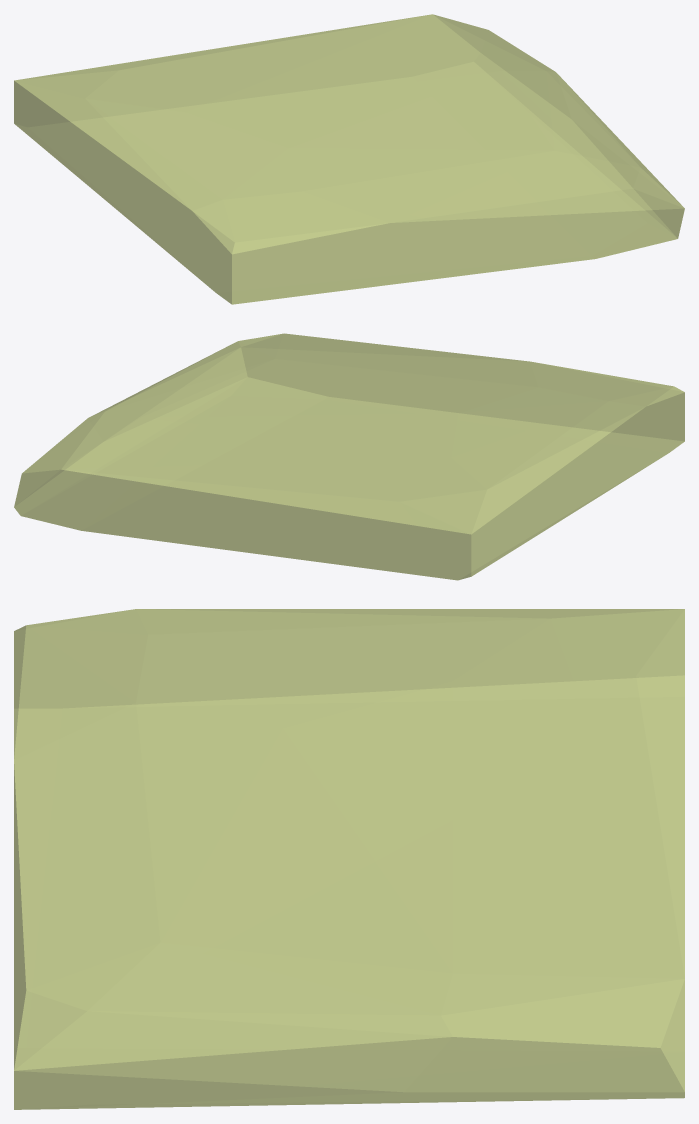
3 renders of one model, top to bottom at view 1: azimuth 30°, elevation 25°; view 2: azimuth 150°, elevation 25°; view 3: azimuth 270°, elevation 25°, orthographic. The views are drawn at different scales.
Visible parts, largest first — view 1: Shape_IndexedFaceSet.002_Shape_IndexedFaceSet.9005; view 2: Shape_IndexedFaceSet.002_Shape_IndexedFaceSet.9005; view 3: Shape_IndexedFaceSet.002_Shape_IndexedFaceSet.9005.
Part boxes in pixels (x1,y1,x2,y2): Shape_IndexedFaceSet.002_Shape_IndexedFaceSet.9005: (14, 14, 684, 304); Shape_IndexedFaceSet.002_Shape_IndexedFaceSet.9005: (14, 333, 684, 580); Shape_IndexedFaceSet.002_Shape_IndexedFaceSet.9005: (14, 609, 684, 1109).
Size of the model in its own units: 0.0271 by 0.00638 by 0.0219.
